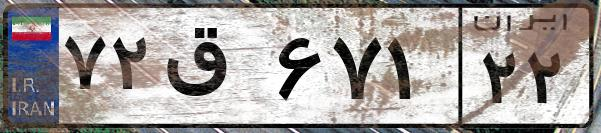1: (385, 28, 445, 110)
2: (475, 38, 525, 113), (525, 38, 570, 115), (110, 28, 158, 98)
6: (270, 28, 330, 110)
7: (330, 28, 385, 110), (57, 26, 110, 100)
ق: (158, 20, 270, 120)
